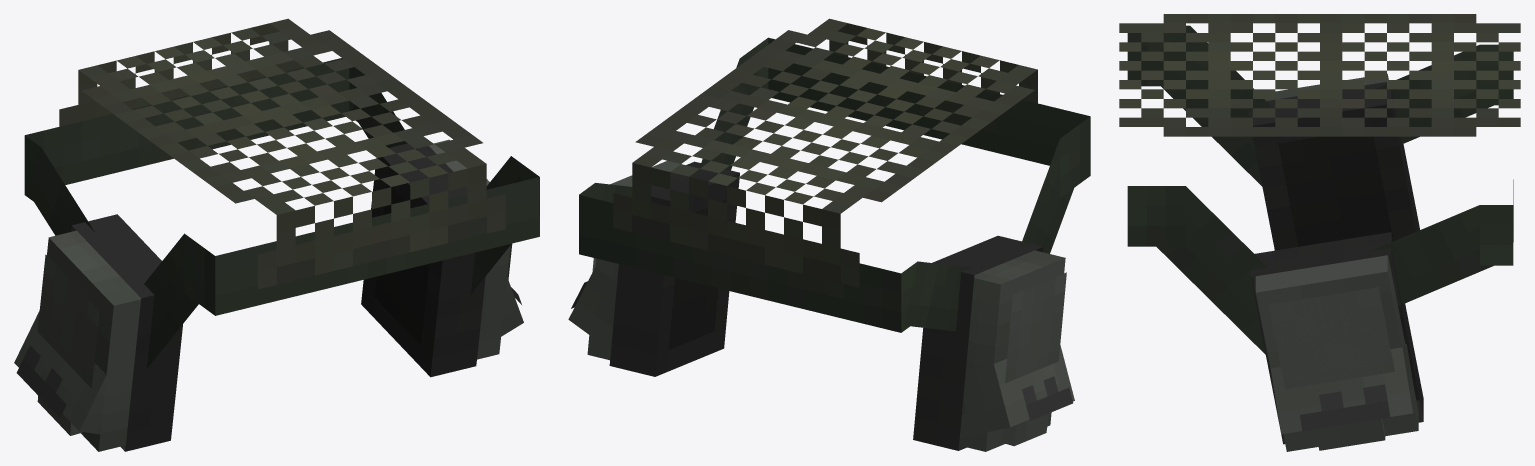
Rendered from gsh01.obj.
3 renders of one model, left to right at view 1: azimuth 30°, elevation 25°; view 2: azimuth 150°, elevation 25°; view 3: azimuth 270°, elevation 25°, orthographic.
Visible parts, largest first — view 1: cube; view 2: cube; view 3: cube.
Part boxes in pixels (bbox=[...]): cube: bbox=[14, 18, 539, 451]; cube: bbox=[568, 18, 1090, 451]; cube: bbox=[1119, 14, 1520, 451].
Bounding box in the file's own units: 0.7572 × 0.4363 × 0.5625.
